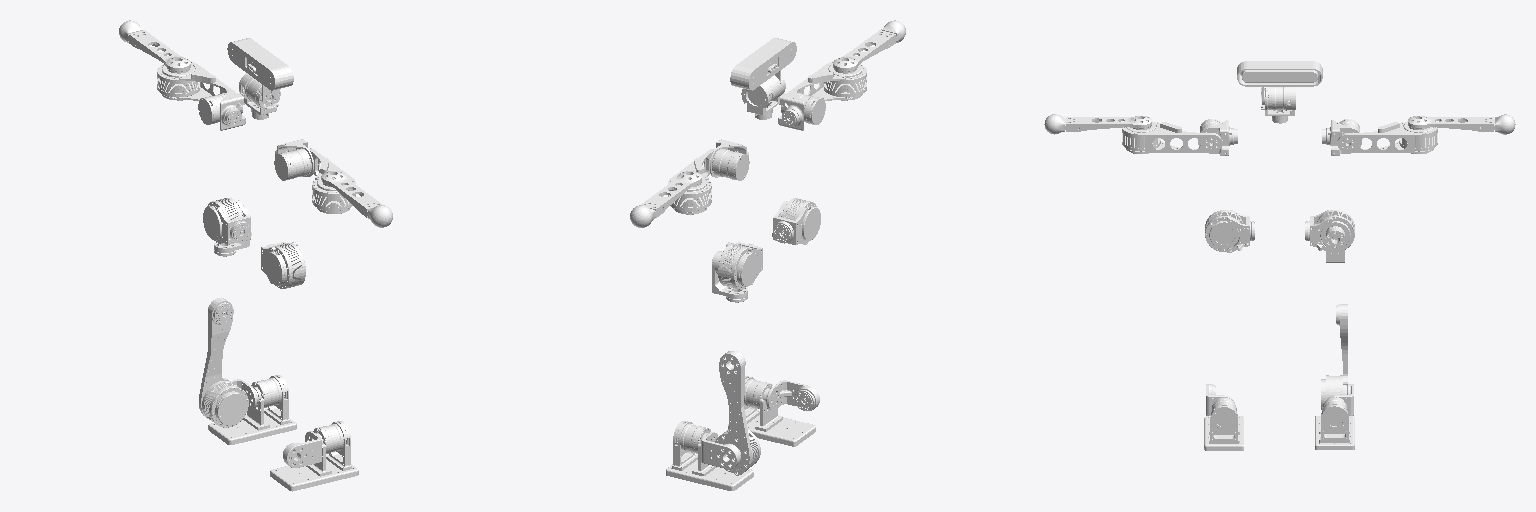
robot.urdf — MOS92_urdf_0308:
<?xml version="1.0" encoding="utf-8"?>
<robot name="MOS92_urdf_0308">

  <link name="base_link">
    <inertial>
      <origin xyz="-0.01659 -0.00137 0.08826" rpy="0 0 0" />
      <mass value="5.71912" />
      <inertia
        ixx="0.08215553052"
        ixy="0.00011239289"
        ixz="0.00069285862"
        iyy="0.06587478666"
        iyz="-0.00017794141"
        izz="0.03079655054" />
    </inertial>
    <visual>
      <origin xyz="0 0 0" rpy="0 0 0" />
      <geometry>
        <mesh filename="../meshes/body.STL" />
      </geometry>
      <material name="">
        <color rgba="1 1 1 1" />
      </material>
    </visual>
    <collision>
      <origin xyz="-0.02 0 0.14" rpy="0 0 0" />
      <geometry>
        <cylinder radius="0.10" length="0.2" />
      </geometry>
    </collision>
  </link>

  <link name="neck">
    <inertial>
      <origin xyz="-9E-05 0.00177 0.04051" rpy="0 0 0" />
      <mass value="0.49351" />
      <inertia
        ixx="0.00037010473"
        ixy="-1.81078E-06"
        ixz="1.5349E-07"
        iyy="0.00031264001"
        iyz="-1.466151E-05"
        izz="0.00025221826" />
    </inertial>
    <visual>
      <origin xyz="0 0 0" rpy="0 0 0" />
      <geometry>
        <mesh filename="../meshes/neck.STL" />
      </geometry>
      <material name="">
        <color rgba="1 1 1 1" />
      </material>
    </visual>
  </link>

  <joint name="neck_yaw" type="fixed">
    <origin xyz="-0.005 0 0.2441" rpy="0 0 0" />
    <parent link="base_link" />
    <child link="neck" />
    <axis xyz="0 0 -1" />
  </joint>

  <link name="head">
    <inertial>
      <origin xyz="-0.00129 0.05235 -0.02903" rpy="0 0 0" />
      <mass value="0.39244" />
      <inertia
        ixx="0.00107114424"
        ixy="3.47938E-06"
        ixz="-1.82382E-06"
        iyy="0.00095315085"
        iyz="6.519755E-05"
        izz="0.00022380679" />
    </inertial>
    <visual>
      <origin xyz="0 0 0" rpy="0 0 0" />
      <geometry>
        <mesh filename="../meshes/head.STL" />
      </geometry>
      <material name="">
        <color rgba="1 1 1 1" />
      </material>
    </visual>
    <collision>
      <origin xyz="0 0.045 -0.03" rpy="0 0 0" />
      <geometry>
        <cylinder radius="0.04" length="0.2" />
      </geometry>
    </collision>
  </link>

  <joint name="neck_pitch" type="fixed">
    <origin xyz="0 -0.033 0.0475" rpy="1.5707963267949 0 0" />
    <parent link="neck" />
    <child link="head" />
    <axis xyz="0 0 -1" />
  </joint>

  <link name="Rshoulder">
    <inertial>
      <origin xyz="0.00336 2E-05 -0.03971" rpy="0 0 0" />
      <mass value="0.49509" />
      <inertia
        ixx="0.00034690106"
        ixy="3.777E-07"
        ixz="4.312723E-05"
        iyy="0.00037773852"
        iyz="2.669E-07"
        izz="0.00027378361" />
    </inertial>
    <visual>
      <origin xyz="0 0 0" rpy="0 0 0" />
      <geometry>
        <mesh filename="../meshes/Rshoulder.STL" />
      </geometry>
      <material name="">
        <color rgba="1 1 1 1" />
      </material>
    </visual>
  </link>

  <joint name="right_shoulder_pitch" type="revolute">
    <origin xyz="-0.0100000000000138 -0.105000000000124 0.192100000000112"
            rpy="1.5707963267949 0 -3.14159265358979" />
    <parent link="base_link" />
    <child link="Rshoulder" />
    <axis xyz="0 0 -1" />
    <limit lower="-2.0" upper="2.0" />
  </joint>

  <link name="Rarm">
    <inertial>
      <origin xyz="0.13444 -0.00076 0.02202" rpy="0 0 0" />
      <mass value="0.8121" />
      <inertia
        ixx="0.00063172231"
        ixy="5.520271E-05"
        ixz="-0.00052298378"
        iyy="0.00292549166"
        iyz="1.803506E-05"
        izz="0.00264363973" />
    </inertial>
    <visual>
      <origin xyz="0 0 0" rpy="0 0 0" />
      <geometry>
        <mesh filename="../meshes/Rarm.STL" />
      </geometry>
      <material name="">
        <color rgba="1 1 1 1" />
      </material>
    </visual>
    <collision>
      <origin xyz="0.05 0 0.01" rpy="0 1.5707963267949 0" />
      <geometry>
        <cylinder radius="0.03" length="0.15" />
      </geometry>
    </collision>
  </link>

  <joint name="right_shoulder_roll" type="revolute">
    <origin xyz="-0.0250000000000136 0 -0.0489999999998756"
            rpy="0 1.5707963267949 0" />
    <parent link="Rshoulder" />
    <child link="Rarm" />
    <axis xyz="0 0 1" />
    <limit lower="-1.45" upper="1.5707963267949" />
  </joint>

  <link name="Rhand">
    <inertial>
      <origin xyz="0.10556 0.00065 -0.0016" rpy="0 0 0" />
      <mass value="0.28342" />
      <inertia
        ixx="5.584375E-05"
        ixy="-1.048883E-05"
        ixz="-4.890131E-05"
        iyy="0.00174723187"
        iyz="-3.0318E-07"
        izz="0.0017725867" />
    </inertial>
    <visual>
      <origin xyz="0 0 0" rpy="0 0 0" />
      <geometry>
        <mesh filename="../meshes/Rhand.STL" />
      </geometry>
      <material name="">
        <color rgba="1 1 1 1" />
      </material>
    </visual>
    <collision>
      <origin xyz="0.09 0 0" rpy="0 1.5707963267949 0" />
      <geometry>
        <cylinder radius="0.02" length="0.15" />
      </geometry>
    </collision>
    <collision>
      <origin xyz="0.195 0 0" rpy="0 1.5707963267949 0" />
      <geometry>
        <sphere radius="0.024" />
      </geometry>
    </collision>
  </link>

  <joint name="right_elbow" type="revolute">
    <origin xyz="0.16 0.0286499999999997 0.0299999999999999"
            rpy="1.5707963267949 0 0" />
    <parent link="Rarm" />
    <child link="Rhand" />
    <axis xyz="0 0 -1" />
    <limit lower="-2.5" upper="2.5" />
  </joint>

  <link name="Lshoulder">
    <inertial>
      <origin xyz="-0.00336 2E-05 -0.03971" rpy="0 0 0" />
      <mass value="0.49509" />
      <inertia
        ixx="0.00034690098"
        ixy="-3.7706E-07"
        ixz="-4.312733E-05"
        iyy="0.00037770345"
        iyz="2.8538E-07"
        izz="0.00027381916" />
    </inertial>
    <visual>
      <origin xyz="0 0 0" rpy="0 0 0" />
      <geometry>
        <mesh filename="../meshes/Lshoulder.STL" />
      </geometry>
      <material name="">
        <color rgba="1 1 1 1" />
      </material>
    </visual>
  </link>

  <joint name="left_shoulder_pitch" type="revolute">
    <origin xyz="-0.00999998124092416 0.105000001016346 0.192100005298829"
            rpy="1.5707963267949 0 0" />
    <parent link="base_link" />
    <child link="Lshoulder" />
    <axis xyz="0 0 -1" />
    <limit lower="-2.0" upper="2.0" />
  </joint>

  <link name="Larm">
    <inertial>
      <origin xyz="0.13443 -0.00076 -0.02201" rpy="0 0 0" />
      <mass value="0.8121" />
      <inertia
        ixx="0.00063142858"
        ixy="5.528721E-05"
        ixz="0.00052266349"
        iyy="0.00292485114"
        iyz="-1.811955E-05"
        izz="0.00264329294" />
    </inertial>
    <visual>
      <origin xyz="0 0 0" rpy="0 0 0" />
      <geometry>
        <mesh filename="../meshes/Larm.STL" />
      </geometry>
      <material name="">
        <color rgba="1 1 1 1" />
      </material>
    </visual>
    <collision>
      <origin xyz="0.05 0 -0.01" rpy="0 1.5707963267949 0" />
      <geometry>
        <cylinder radius="0.03" length="0.15" />
      </geometry>
    </collision>
  </link>

  <joint name="left_shoulder_roll" type="revolute">
    <origin xyz="0.0249999812409242 0 -0.0489999989836545"
            rpy="0 1.5707963267949 0" />
    <parent link="Lshoulder" />
    <child link="Larm" />
    <axis xyz="0 0 -1" />
    <limit lower="-1.5707963267949" upper="1.45" />
  </joint>

  <link name="Lhand">
    <inertial>
      <origin xyz="-0.10556 0 -0.0016" rpy="0 0 0" />
      <mass value="0.28342" />
      <inertia
        ixx="5.577871E-05"
        ixy="5E-10"
        ixz="4.890225E-05"
        iyy="0.00174729692"
        iyz="-8E-11"
        izz="0.0017725867" />
    </inertial>
    <visual>
      <origin xyz="0 0 0" rpy="0 0 0" />
      <geometry>
        <mesh filename="../meshes/Lhand.STL" />
      </geometry>
      <material name="">
        <color rgba="1 1 1 1" />
      </material>
    </visual>
    <collision>
      <origin xyz="-0.09 0 0" rpy="0 1.5707963267949 0" />
      <geometry>
        <cylinder radius="0.02" length="0.15" />
      </geometry>
    </collision>
    <collision>
      <origin xyz="-0.195 0 0" rpy="0 1.5707963267949 0" />
      <geometry>
        <sphere radius="0.024" />
      </geometry>
    </collision>
  </link>

  <joint name="left_elbow" type="revolute">
    <origin xyz="0.16 0.0286500000000008 -0.0299999999999989"
            rpy="-1.5707963267949 0 3.14159265358979" />
    <parent link="Larm" />
    <child link="Lhand" />
    <axis xyz="0 0 -1" />
    <limit lower="-2.5" upper="2.5" />
  </joint>

  <link name="Rhip">
    <inertial>
      <origin xyz="0.00228 -9E-05 -0.05189" rpy="0 0 0" />
      <mass value="0.74781" />
      <inertia
        ixx="0.00088577403"
        ixy="-2.58718E-06"
        ixz="2.336024E-05"
        iyy="0.0007223573"
        iyz="1.74445E-06"
        izz="0.00048011483" />
    </inertial>
    <visual>
      <origin xyz="0 0 0" rpy="0 0 0" />
      <geometry>
        <mesh filename="../meshes/Rhip.STL" />
      </geometry>
      <material name="">
        <color rgba="1 1 1 1" />
      </material>
    </visual>
  </link>

  <joint name="right_hip_pitch" type="revolute">
    <origin xyz="-0.0150000000000001 -0.0645 -0.0466"
            rpy="1.5707963267949 0 3.14159265358979" />
    <parent link="base_link" />
    <child link="Rhip" />
    <axis xyz="0 0 1" />
    <limit lower="-1.8" upper="1.8" />
  </joint>

  <link name="Rlap">
    <inertial>
      <origin xyz="0 -0.03189 0.00239" rpy="0 0 0" />
      <mass value="0.19423" />
      <inertia
        ixx="0.0002172243"
        ixy="0"
        ixz="0"
        iyy="9.365317E-05"
        iyz="5.198147E-05"
        izz="0.00018557933" />
    </inertial>
    <visual>
      <origin xyz="0 0 0" rpy="0 0 0" />
      <geometry>
        <mesh filename="../meshes/Rlap.STL" />
      </geometry>
      <material name="">
        <color rgba="1 1 1 1" />
      </material>
    </visual>
  </link>

  <joint name="right_hip_roll" type="revolute">
    <origin xyz="-0.0275 0 -0.061" rpy="0 1.5707963267949 0" />
    <parent link="Rhip" />
    <child link="Rlap" />
    <axis xyz="0 0 -1" />
    <limit lower="-1.5707963267949" upper="0.25" />
  </joint>

  <link name="Rleg1">
    <inertial>
      <origin xyz="0.00443 -0.00258 -0.08467" rpy="0 0 0" />
      <mass value="1.54675" />
      <inertia
        ixx="0.00627031982"
        ixy="-9.955694E-05"
        ixz="0.00094284831"
        iyy="0.00630261999"
        iyz="-2.567582E-05"
        izz="0.00174693141" />
    </inertial>
    <visual>
      <origin xyz="0 0 0" rpy="0 0 0" />
      <geometry>
        <mesh filename="../meshes/Rleg1.STL" />
      </geometry>
      <material name="">
        <color rgba="1 1 1 1" />
      </material>
    </visual>
    <collision>
      <origin xyz="0 0 0" rpy="0 0 0" />
      <geometry>
        <cylinder radius="0.030" length="0.130" />
      </geometry>
    </collision>
  </link>

  <joint name="right_hip_yaw" type="revolute">
    <origin xyz="0 -0.063 0.0280000000000001"
            rpy="1.5707963267949 0 3.14159265358979" />
    <parent link="Rlap" />
    <child link="Rleg1" />
    <axis xyz="0 0 -1" />
    <limit lower="-1.5707963267949" upper="1.5707963267949" />
  </joint>

  <link name="Rleg2">
    <inertial>
      <origin xyz="-0.00275 -0.15442 -0.00496" rpy="0 0 0" />
      <mass value="0.92397" />
      <inertia
        ixx="0.00552379194"
        ixy="3.469597E-05"
        ixz="4.518884E-05"
        iyy="0.00058999945"
        iyz="-0.000588591"
        izz="0.00566131504" />
    </inertial>
    <visual>
      <origin xyz="0 0 0" rpy="0 0 0" />
      <geometry>
        <mesh filename="../meshes/Rleg2.STL" />
      </geometry>
      <material name="">
        <color rgba="1 1 1 1" />
      </material>
    </visual>
    <collision>
      <origin xyz="-0.005 -0.04 0" rpy="1.5707963267949 0 -0.1" />
      <geometry>
        <cylinder radius="0.028" length="0.15" />
      </geometry>
    </collision>
  </link>

  <joint name="right_knee" type="revolute">
    <origin xyz="-0.00900000000000004 0 -0.146"
            rpy="1.5707963267949 0 -1.5707963267949" />
    <parent link="Rleg1" />
    <child link="Rleg2" />
    <axis xyz="0 0 -1" />
    <limit lower="-1.0" upper="2.3" />
  </joint>

  <link name="Rankle">
    <inertial>
      <origin xyz="0.03381 0 -0.00478" rpy="0 0 0" />
      <mass value="0.21292" />
      <inertia
        ixx="0.00010044011"
        ixy="1E-11"
        ixz="7.374506E-05"
        iyy="0.00027395406"
        iyz="0"
        izz="0.0002425429" />
    </inertial>
    <visual>
      <origin xyz="0 0 0" rpy="0 0 0" />
      <geometry>
        <mesh filename="../meshes/Rankle.STL" />
      </geometry>
      <material name="">
        <color rgba="1 1 1 1" />
      </material>
    </visual>
  </link>

  <joint name="right_ankle_pitch" type="revolute">
    <origin xyz="0 -0.2 0.0177999999999997" rpy="0 0 0" />
    <parent link="Rleg2" />
    <child link="Rankle" />
    <axis xyz="0 0 -1" />
    <limit lower="-0.9" upper="2.1" />
  </joint>

  <link name="Rfoot">
    <inertial>
      <origin xyz="0 -0.0233 0.02403" rpy="0 0 0" />
      <mass value="0.67876" />
      <inertia
        ixx="0.00137339124"
        ixy="-2.033E-08"
        ixz="-1.7E-10"
        iyy="0.00101905647"
        iyz="-0.0002676393"
        izz="0.00088815706" />
    </inertial>
    <visual>
      <origin xyz="0 0 0" rpy="0 0 0" />
      <geometry>
        <mesh filename="../meshes/Rfoot.STL" />
      </geometry>
      <material name="">
        <color rgba="1 1 1 1" />
      </material>
    </visual>
    <collision>
      <origin xyz="0 0 0" rpy="0 0 0" />
      <geometry>
        <cylinder radius="0.03" length="0.13" />
      </geometry>
    </collision>
    <collision>
      <origin xyz="0.024 -0.052 -0.005" rpy="0 0 0" />
      <geometry>
        <cylinder radius="0.022" length="0.16" />
      </geometry>
    </collision>
    <collision>
      <origin xyz="-0.024 -0.052 -0.005" rpy="0 0 0" />
      <geometry>
        <cylinder radius="0.022" length="0.16" />
      </geometry>
    </collision>
  </link>

  <joint name="right_ankle_roll" type="revolute">
    <origin xyz="0.0689999999999583 0 -0.0259999999999973"
            rpy="0 1.5707963267949 0" />
    <parent link="Rankle" />
    <child link="Rfoot" />
    <axis xyz="0 0 1" />
    <limit lower="-0.7" upper="0.7" />
  </joint>

  <link name="Lhip">
    <inertial>
      <origin xyz="0.00228 0 0.05189" rpy="0 0 0" />
      <mass value="0.74781" />
      <inertia
        ixx="0.00088577356"
        ixy="-2.4444E-06"
        ixz="-2.336022E-05"
        iyy="0.00072235721"
        iyz="-2.19293E-06"
        izz="0.00048011448" />
    </inertial>
    <visual>
      <origin xyz="0 0 0" rpy="0 0 0" />
      <geometry>
        <mesh filename="../meshes/Lhip.STL" />
      </geometry>
      <material name="">
        <color rgba="1 1 1 1" />
      </material>
    </visual>
  </link>

  <joint name="left_hip_pitch" type="revolute">
    <origin xyz="-0.0150000000000001 0.0645 -0.0466"
            rpy="1.5707963267949 0 3.14159265358979" />
    <parent link="base_link" />
    <child link="Lhip" />
    <axis xyz="0 0 -1" />
    <limit lower="-1.8" upper="1.8" />
  </joint>

  <link name="Llap">
    <inertial>
      <origin xyz="0 -0.03189 0.00239" rpy="0 0 0" />
      <mass value="0.19423" />
      <inertia
        ixx="0.0002172243"
        ixy="0"
        ixz="0"
        iyy="9.365317E-05"
        iyz="5.198147E-05"
        izz="0.00018557933" />
    </inertial>
    <visual>
      <origin xyz="0 0 0" rpy="0 0 0" />
      <geometry>
        <mesh filename="../meshes/Llap.STL" />
      </geometry>
      <material name="">
        <color rgba="1 1 1 1" />
      </material>
    </visual>
  </link>

  <joint name="left_hip_roll" type="revolute">
    <origin xyz="-0.027499999999988 9.99999999794776E-05 0.0609999999999988"
            rpy="0 1.5707963267949 0" />
    <parent link="Lhip" />
    <child link="Llap" />
    <axis xyz="0 0 -1" />
    <limit lower="-0.25" upper="1.5707963267949" />
  </joint>

  <link name="Lleg1">
    <inertial>
      <origin xyz="-0.00443 -0.00259 -0.08467" rpy="0 0 0" />
      <mass value="1.54675" />
      <inertia
        ixx="0.00627040172"
        ixy="9.940462E-05"
        ixz="-0.0009422302"
        iyy="0.00630241348"
        iyz="-2.69476E-05"
        izz="0.0017468204" />
    </inertial>
    <visual>
      <origin xyz="0 0 0" rpy="0 0 0" />
      <geometry>
        <mesh filename="../meshes/Lleg1.STL" />
      </geometry>
      <material name="">
        <color rgba="1 1 1 1" />
      </material>
    </visual>
    <collision>
      <origin xyz="0 0 0" rpy="0 0 0" />
      <geometry>
        <cylinder radius="0.030" length="0.130" />
      </geometry>
    </collision>
  </link>

  <joint name="left_hip_yaw" type="revolute">
    <origin xyz="0 -0.0629999999999796 0.0279999999999841"
            rpy="1.5707963267949 0 3.14159265358979" />
    <parent link="Llap" />
    <child link="Lleg1" />
    <axis xyz="0 0 -1" />
    <limit lower="-1.5707963267949" upper="1.5707963267949" />
  </joint>

  <link name="Lleg2">
    <inertial>
      <origin xyz="0.00274 -0.1544 -0.00496" rpy="0 0 0" />
      <mass value="0.92397" />
      <inertia
        ixx="0.00552328494"
        ixy="-3.515248E-05"
        ixz="-4.516944E-05"
        iyy="0.00058958948"
        iyz="-0.0005886137"
        izz="0.00566039807" />
    </inertial>
    <visual>
      <origin xyz="0 0 0" rpy="0 0 0" />
      <geometry>
        <mesh filename="../meshes/Lleg2.STL" />
      </geometry>
      <material name="">
        <color rgba="1 1 1 1" />
      </material>
    </visual>
    <collision>
      <origin xyz="0.005 -0.04 0" rpy="1.5707963267949 0 0.1" />
      <geometry>
        <cylinder radius="0.028" length="0.15" />
      </geometry>
    </collision>
  </link>

  <joint name="left_knee" type="revolute">
    <origin xyz="0.00900000000000006 0 -0.146"
            rpy="1.5707963267949 0 1.5707963267949" />
    <parent link="Lleg1" />
    <child link="Lleg2" />
    <axis xyz="0 0 -1" />
    <limit lower="-2.3" upper="1.0" />
  </joint>

  <link name="Lankle">
    <inertial>
      <origin xyz="-0.03381 0.00018 -0.00502" rpy="0 0 0" />
      <mass value="0.21292" />
      <inertia
        ixx="0.00010280109"
        ixy="1.5056E-06"
        ixz="-7.582757E-05"
        iyy="0.0002762631"
        iyz="8.7061E-07"
        izz="0.00024259484" />
    </inertial>
    <visual>
      <origin xyz="0 0 0" rpy="0 0 0" />
      <geometry>
        <mesh filename="../meshes/Lankle.STL" />
      </geometry>
      <material name="">
        <color rgba="1 1 1 1" />
      </material>
    </visual>
  </link>

  <joint name="left_ankle_pitch" type="revolute">
    <origin xyz="0 -0.2 0.0177999999999994" rpy="0 0 0" />
    <parent link="Lleg2" />
    <child link="Lankle" />
    <axis xyz="0 0 -1" />
    <limit lower="-2.1" upper="0.9" />
  </joint>

  <link name="Lfoot">
    <inertial>
      <origin xyz="0 -0.0233 -0.02403" rpy="0 0 0" />
      <mass value="0.67876" />
      <inertia
        ixx="0.00137339124"
        ixy="2.033E-08"
        ixz="-1.7E-10"
        iyy="0.00101905647"
        iyz="0.0002676393"
        izz="0.00088815706" />
    </inertial>
    <visual>
      <origin xyz="0 0 0" rpy="0 0 0" />
      <geometry>
        <mesh filename="../meshes/Lfoot.STL" />
      </geometry>
      <material name="">
        <color rgba="1 1 1 1" />
      </material>
    </visual>
    <collision>
      <origin xyz="0 0 0" rpy="0 0 0" />
      <geometry>
        <cylinder radius="0.03" length="0.13" />
      </geometry>
    </collision>
    <collision>
      <origin xyz="0.024 -0.052 0.005" rpy="0 0 0" />
      <geometry>
        <cylinder radius="0.022" length="0.16" />
      </geometry>
    </collision>
    <collision>
      <origin xyz="-0.024 -0.052 0.005" rpy="0 0 0" />
      <geometry>
        <cylinder radius="0.022" length="0.16" />
      </geometry>
    </collision>
  </link>

  <joint name="left_ankle_roll" type="revolute">
    <origin xyz="-0.068999999995933 0.00155678563569939 -0.0281533249166232"
            rpy="0 1.5707963267949 0" />
    <parent link="Lankle" />
    <child link="Lfoot" />
    <axis xyz="0 0 -1" />
    <limit lower="-0.7" upper="0.7" />
  </joint>

</robot>

--- Facts derived from the render (not from the file) ---
3 views of the same robot in one strip: view 1: azimuth 30°, elevation 25°; view 2: azimuth 150°, elevation 25°; view 3: azimuth 270°, elevation 25° (orthographic).
Model MOS92_urdf_0308 with 21 links and 20 joints (18 revolute, 2 fixed), rooted at base_link, posed every joint at zero.
Links seen in each view (by area): view 1: Lleg2, Lfoot, Rfoot, head, Lhip, Larm, Rhip, Rhand, Lhand, Rarm, Lshoulder, Rshoulder (+2 smaller); view 2: Lleg2, Lfoot, Rfoot, head, Rhip, Rarm, Lhip, Lhand, Rhand, Larm, Rshoulder, Lshoulder (+4 smaller); view 3: head, Rarm, Larm, Rfoot, Lfoot, Rhip, Lhand, Rhand, Lhip, Lleg2, neck, Rshoulder (+2 smaller).
Boxes of the visible links, left/top/right/bottom form: Lleg2: left=199, top=298, right=248, bottom=427; Lfoot: left=208, top=375, right=296, bottom=444; Rfoot: left=270, top=421, right=358, bottom=491; head: left=227, top=38, right=293, bottom=105; Lhip: left=203, top=198, right=251, bottom=244; Larm: left=157, top=61, right=242, bottom=113; Rhip: left=261, top=242, right=305, bottom=288; Rhand: left=321, top=171, right=392, bottom=227; Lhand: left=119, top=20, right=190, bottom=73; Rarm: left=309, top=148, right=355, bottom=213; Lshoulder: left=198, top=90, right=245, bottom=130; Rshoulder: left=274, top=139, right=313, bottom=180; Lleg2: left=715, top=351, right=760, bottom=475; Lfoot: left=666, top=421, right=753, bottom=490; Rfoot: left=728, top=376, right=815, bottom=446; head: left=730, top=38, right=796, bottom=90; Rhip: left=772, top=198, right=820, bottom=244; Rarm: left=781, top=61, right=866, bottom=113; Lhip: left=718, top=242, right=762, bottom=289; Lhand: left=630, top=171, right=701, bottom=227; Rhand: left=833, top=20, right=905, bottom=73; Larm: left=668, top=149, right=714, bottom=214; Rshoulder: left=778, top=90, right=825, bottom=130; Lshoulder: left=710, top=139, right=749, bottom=180; head: left=1237, top=61, right=1322, bottom=104; Rarm: left=1122, top=121, right=1221, bottom=153; Larm: left=1338, top=121, right=1437, bottom=153; Rfoot: left=1204, top=398, right=1243, bottom=450; Lfoot: left=1315, top=397, right=1354, bottom=449; Rhip: left=1205, top=210, right=1254, bottom=252; Lhand: left=1408, top=114, right=1515, bottom=134; Rhand: left=1044, top=114, right=1151, bottom=134; Lhip: left=1305, top=210, right=1354, bottom=250; Lleg2: left=1321, top=304, right=1347, bottom=409; neck: left=1261, top=87, right=1295, bottom=123; Rshoulder: left=1198, top=119, right=1237, bottom=155.
Bounding box of the posed robot: 0.189 × 1.07 × 0.9017 m (x, y, z).
16 mesh visuals loaded from 21 distinct referenced files (16 binary STL); not drawn: 5 (reference not matched to a file when rendering).
